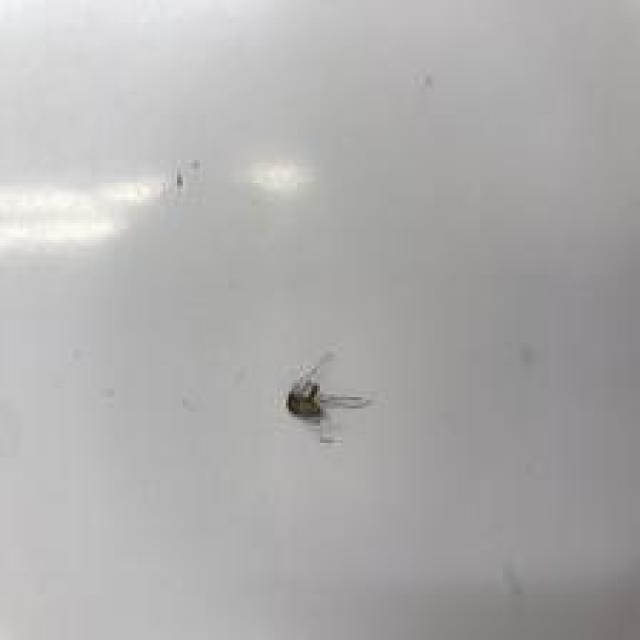Culex: (284, 349, 370, 420)
